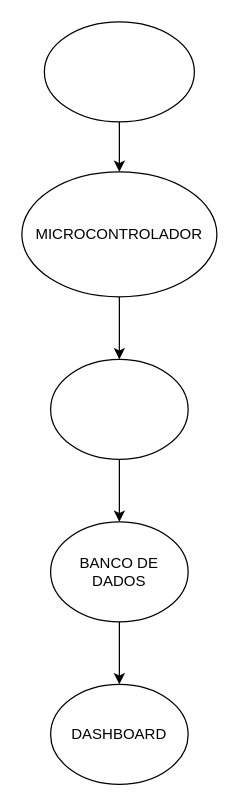
Image size: 239x806. Some labels were removed from this diagram. The centre of each missing label's shape, as x and y in pixels:
"BROKER MQTT" goes at point 118,408.
"SENSORES" goes at point 118,71.
